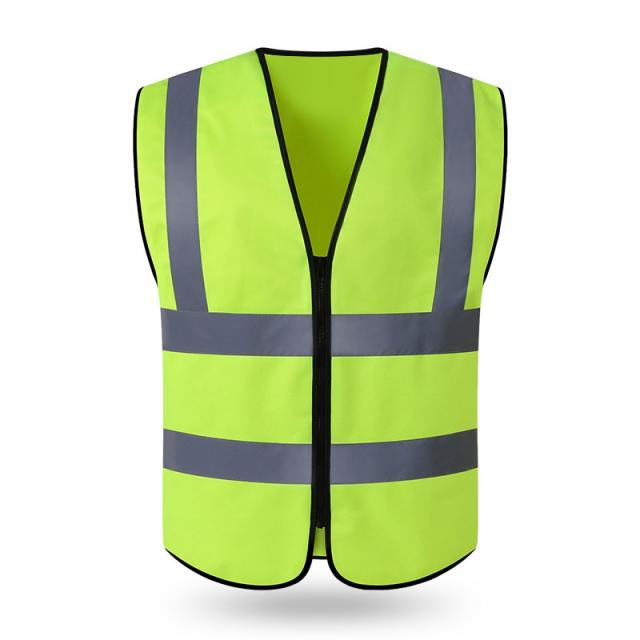Reflective-Jacket: (105, 34, 522, 610)
